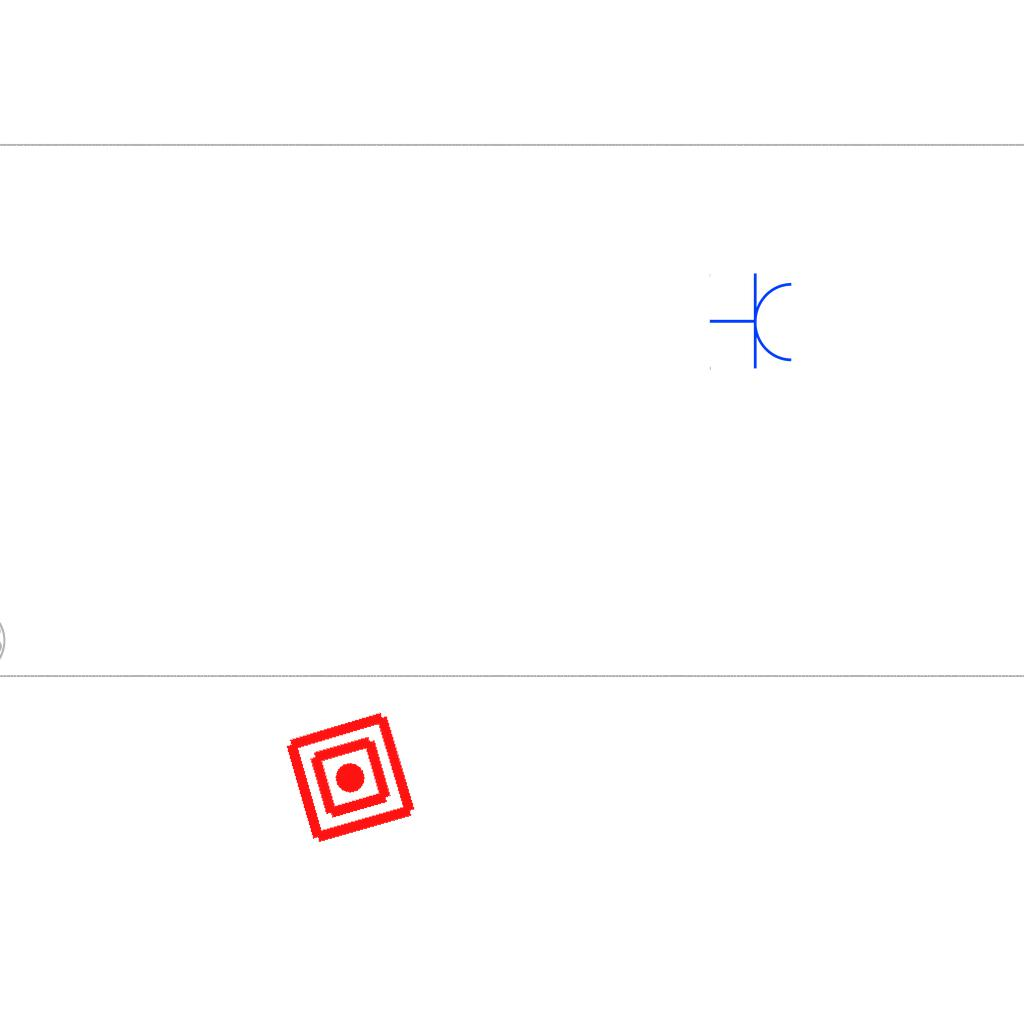NAM-Nichtautomatischer_Melder: (280, 707, 421, 848)
Schukosteckdose_einfach: (709, 272, 796, 372)
